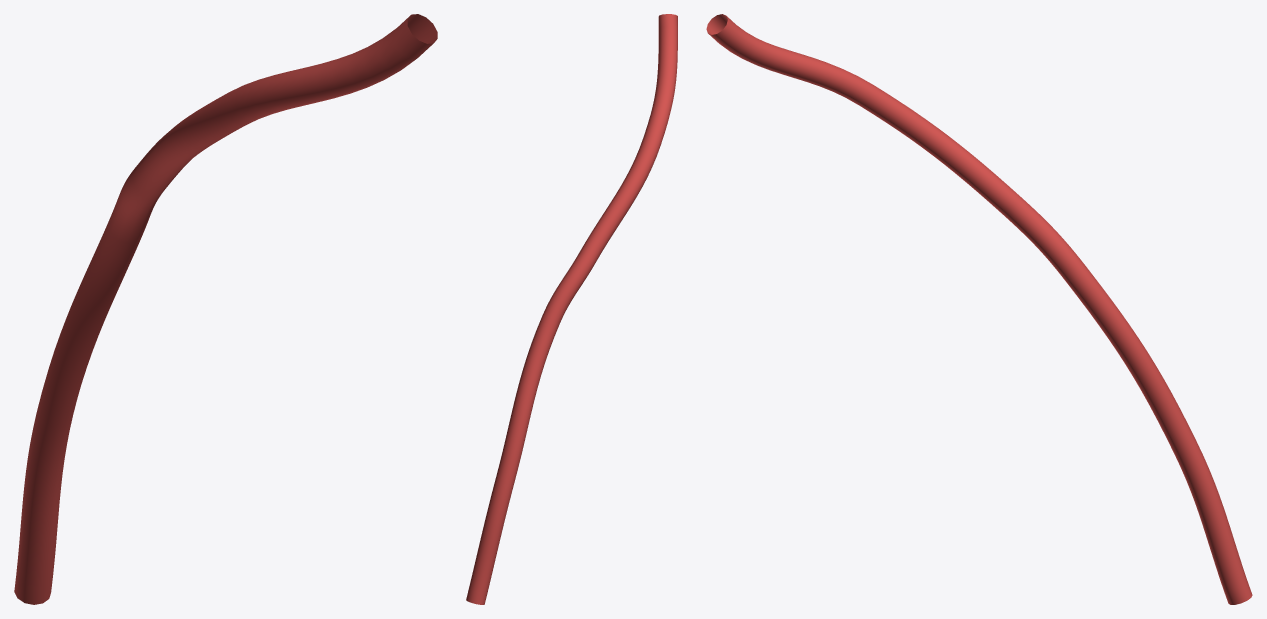
The picture shows the model from 3 angles, left to right: view 1: azimuth 30°, elevation 25°; view 2: azimuth 150°, elevation 25°; view 3: azimuth 270°, elevation 25°; orthographic projection. The views are drawn at different scales.
Visible parts, largest first — view 1: 左侧颊动脉; view 2: 左侧颊动脉; view 3: 左侧颊动脉.
Part boxes in pixels (x1,y1,x2,y2): 左侧颊动脉: (14,14,437,604); 左侧颊动脉: (466,14,677,604); 左侧颊动脉: (706,14,1252,604).
Size of the model in its own units: 0.00717 by 0.0524 by 0.044.
